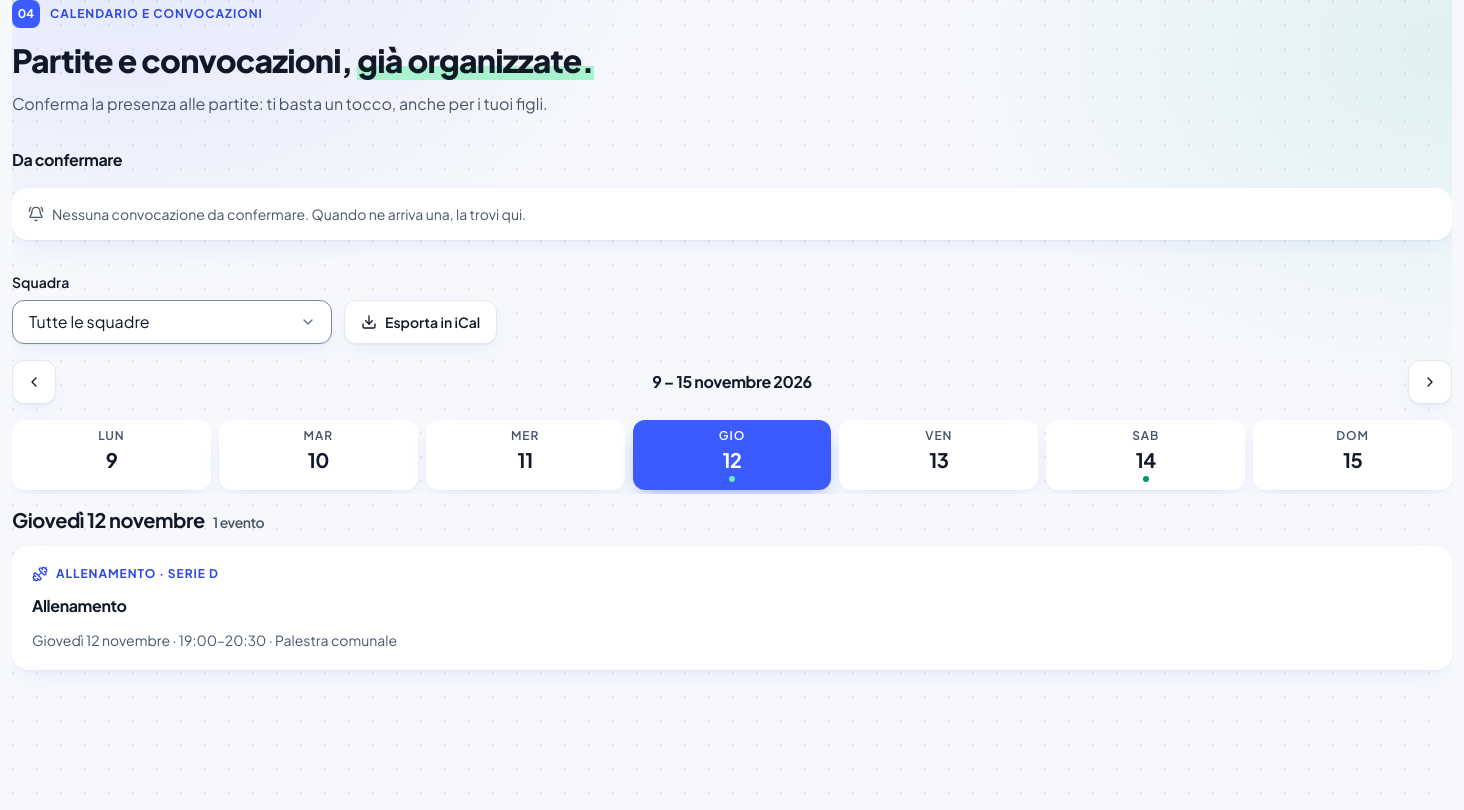
Scenario: CalendarioPage week view › is read only for users who cannot write events
Click the button named "ven 13 novembre" at (939, 455), box 839,420 -> 1038,490
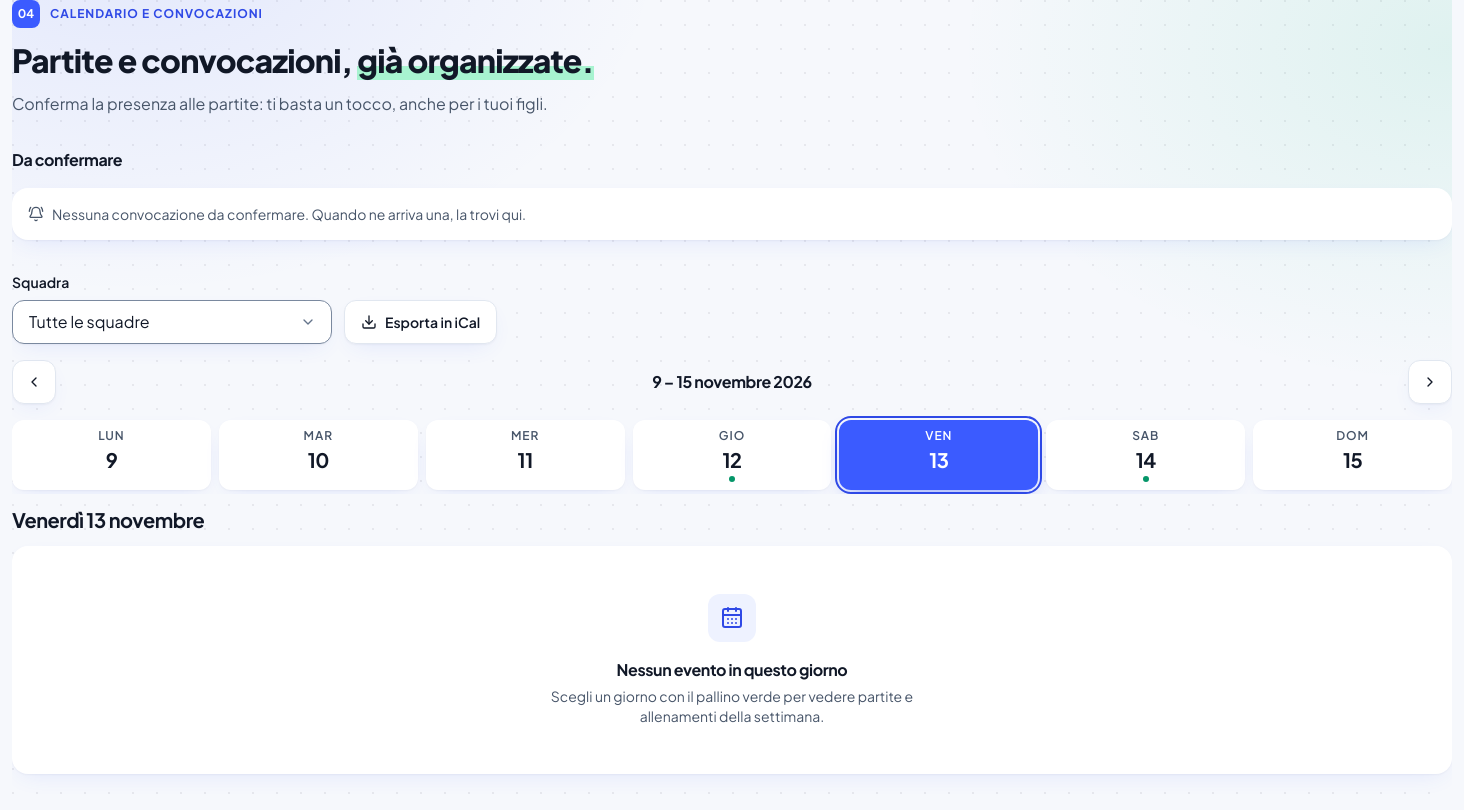
Now the heading "Nessun evento in questo giorno" is shown, box 617,658 -> 847,682
